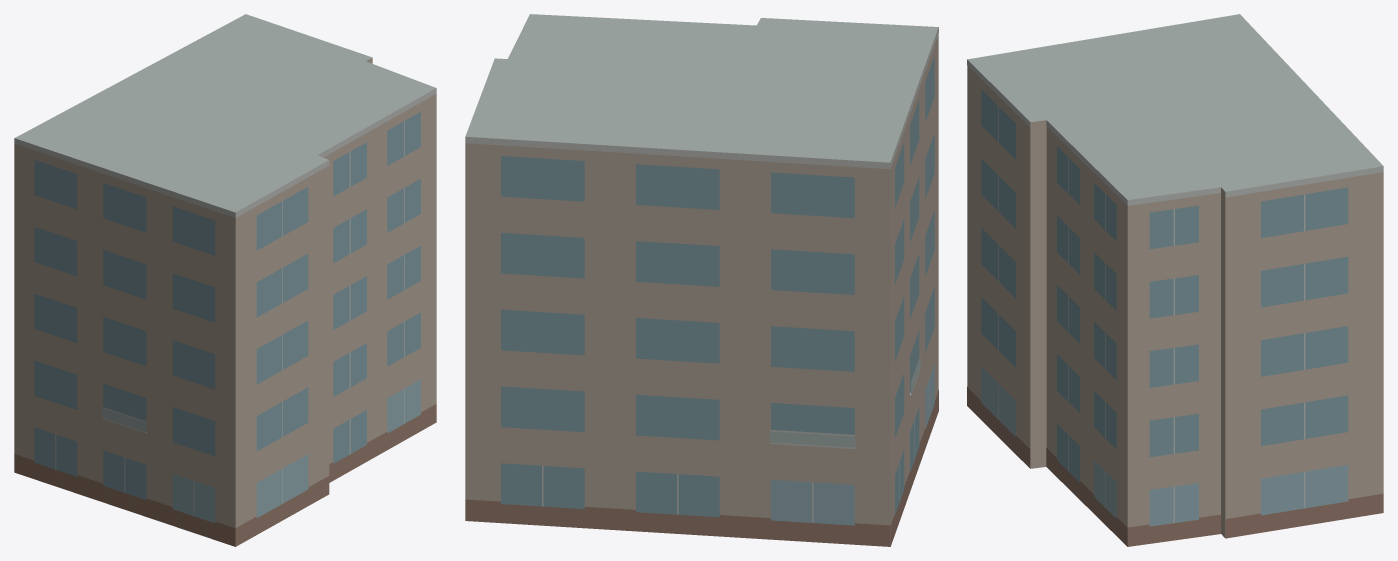
File: survey-upis-32862647.glb
3 views of the same model, side by side, from view 1: azimuth 30°, elevation 25°; view 2: azimuth 150°, elevation 25°; view 3: azimuth 270°, elevation 25° (orthographic). The views are drawn at different scales.
Visible parts, largest first — view 1: survey-upis-32862647.tmp; view 2: survey-upis-32862647.tmp; view 3: survey-upis-32862647.tmp.
Part boxes in pixels (x1,y1,x2,y2): survey-upis-32862647.tmp: [14, 14, 436, 546]; survey-upis-32862647.tmp: [465, 14, 938, 546]; survey-upis-32862647.tmp: [967, 14, 1383, 546].
Bounding box in the file's own units: 16.77 × 14.55 × 15.85.
